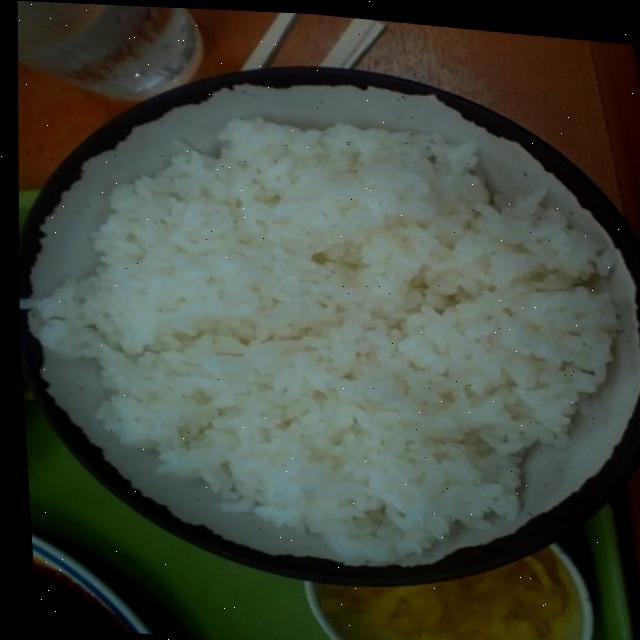米饭主食: (2, 36, 640, 603)
